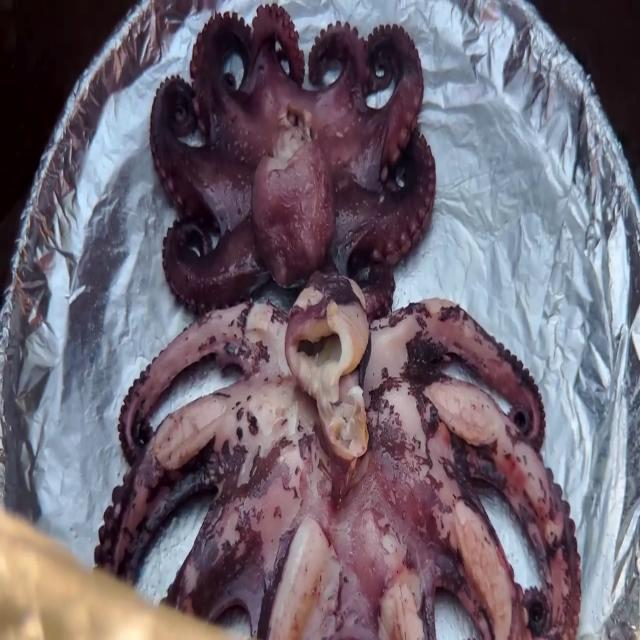octopus: (93, 270, 582, 640), (148, 0, 436, 297)
